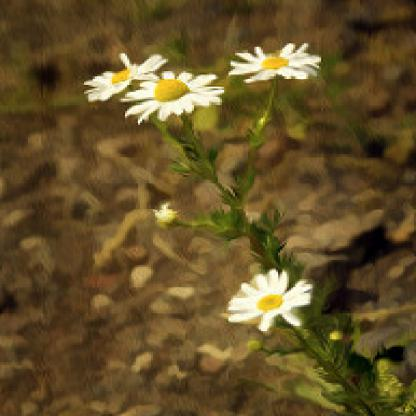ASTER: (66, 39, 335, 334)
